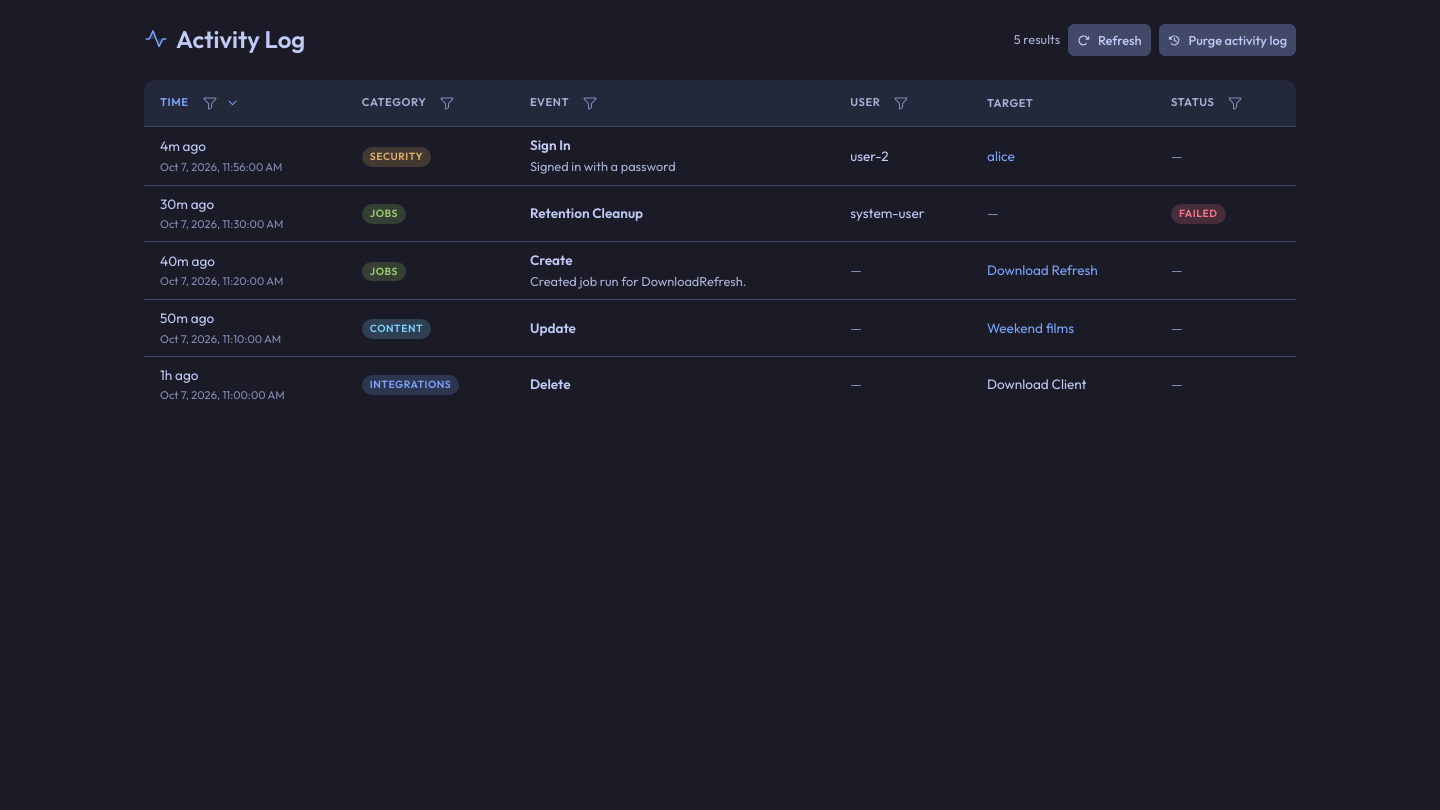
Test: ActivityLogPage › PurgeDialog_ShowsTheScheduleRetention_WhenTheScheduleIs true {}
The image size is (1440, 810).
Click the button "Purge activity log": (1227, 40) [1159,24,1296,56]
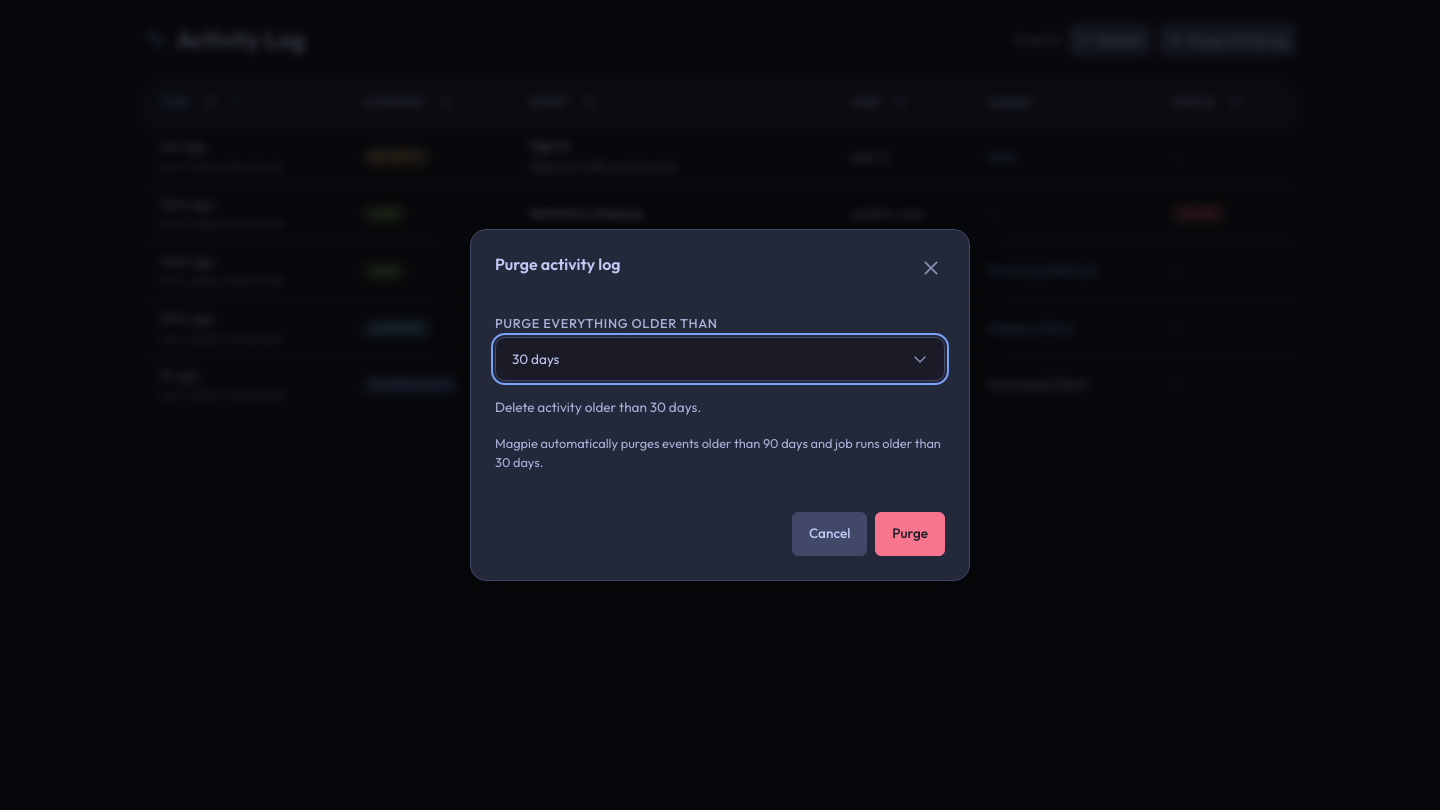
expect the text "Delete activity older than 30 days." is shown: met, box [495,398,701,416]
expect the button "Purge" is shown: met, box [875,512,945,556]
expect the text "Magpie automatically purges" shows "Magpie automatically purges events older than 90 days and job runs older than 30 days.": met, box [495,435,941,470]
